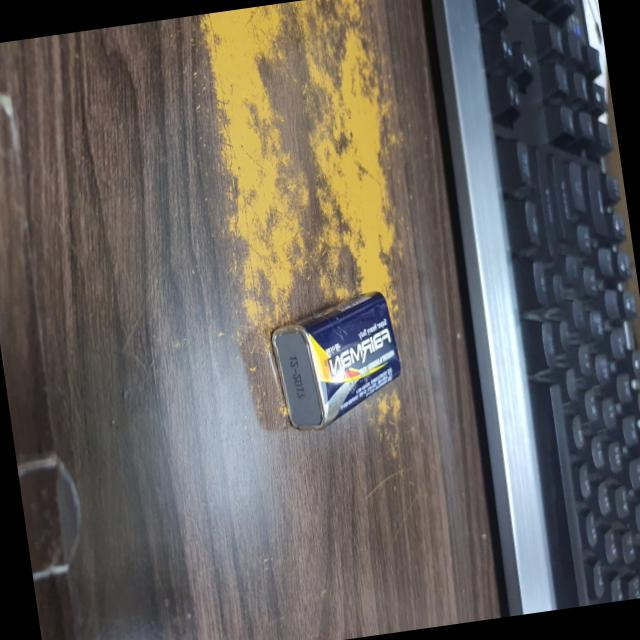battery-etc-etc: (266, 283, 416, 440)
